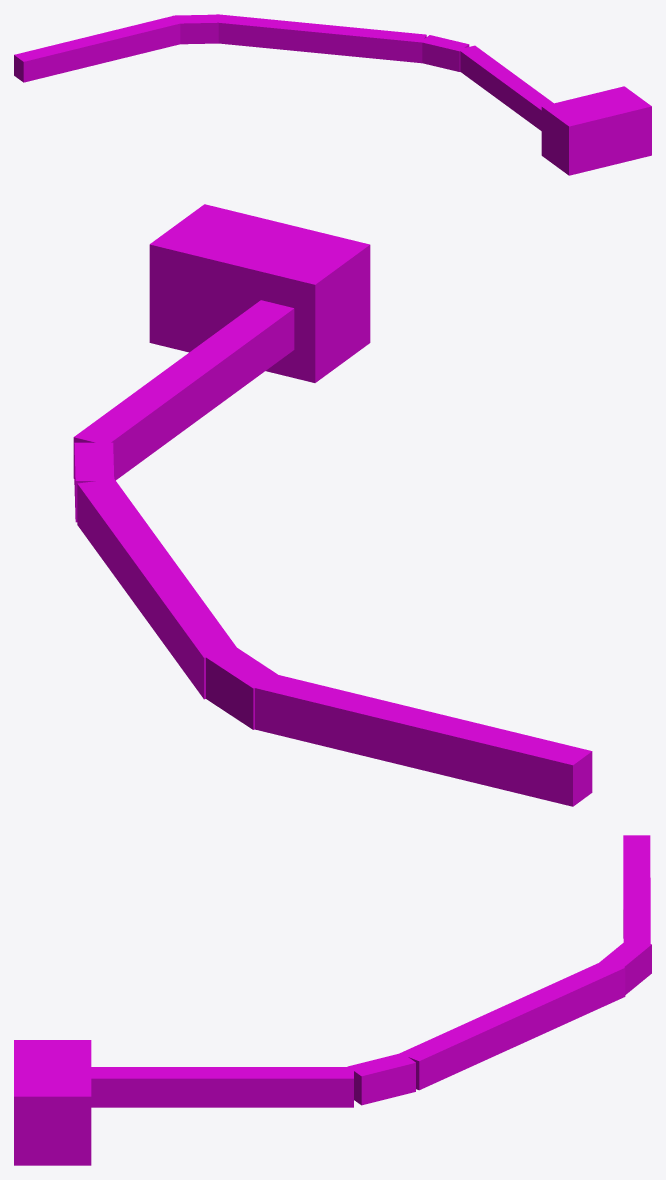
File: SM_OverheadLightSinglePart07Collider.fbx
3 renders of one model, top to bottom at view 1: azimuth 30°, elevation 25°; view 2: azimuth 150°, elevation 25°; view 3: azimuth 270°, elevation 25°, orthographic. The views are drawn at different scales.
Visible parts, largest first — view 1: OverheadLightSinglePart07Collision; view 2: OverheadLightSinglePart07Collision; view 3: OverheadLightSinglePart07Collision.
Part boxes in pixels (left/top/right/bottom): OverheadLightSinglePart07Collision: left=14, top=14, right=651, bottom=175; OverheadLightSinglePart07Collision: left=73, top=204, right=592, bottom=806; OverheadLightSinglePart07Collision: left=14, top=835, right=651, bottom=1165.
Size of the model in its own units: 27.16 by 3.11 by 26.03.
